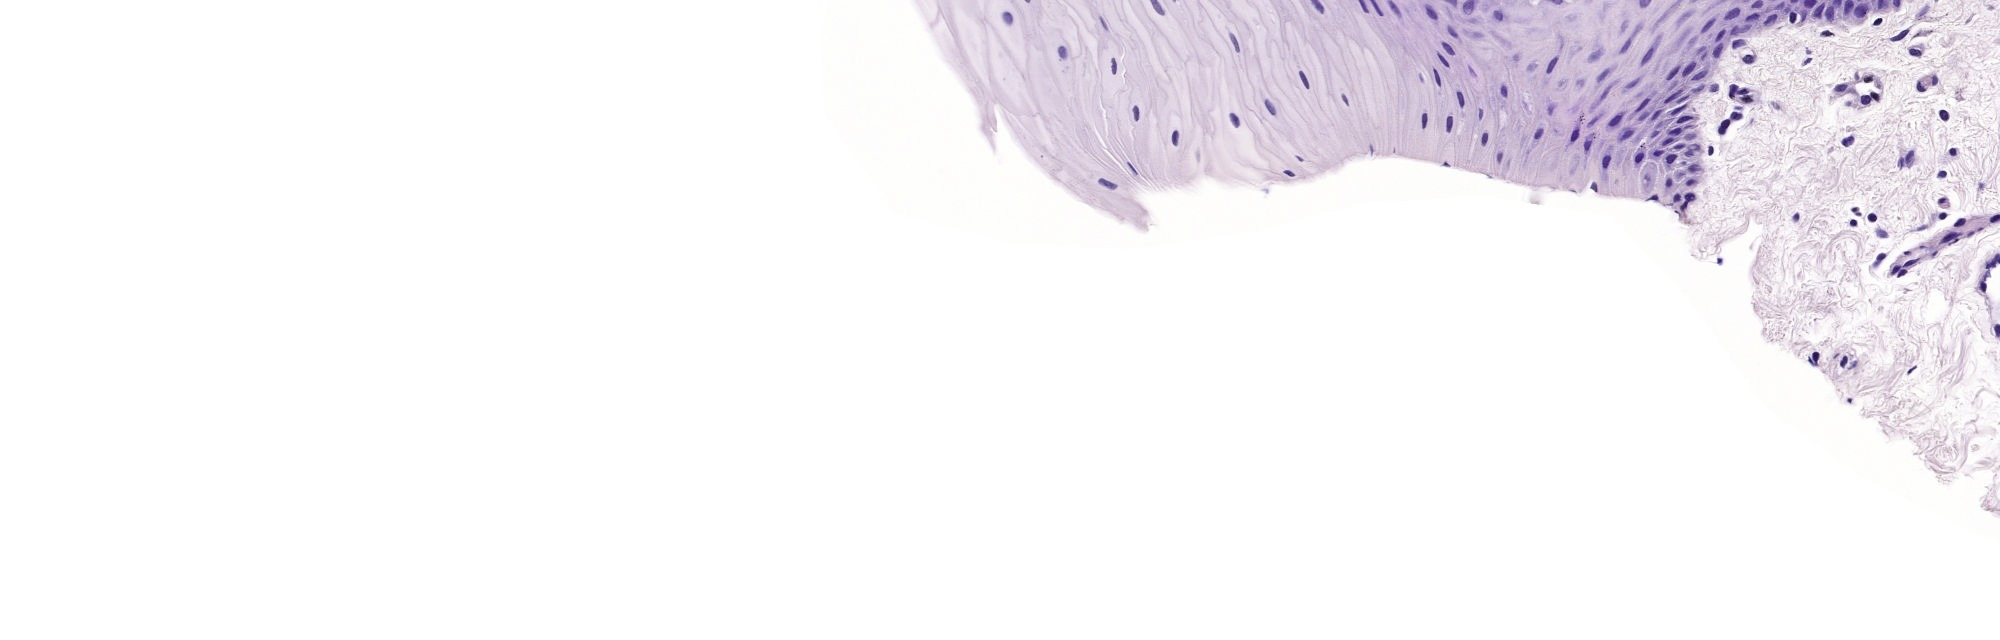epithelial: (1446, 47, 1452, 52), (1769, 17, 1776, 20), (1807, 3, 1814, 6), (1060, 48, 1064, 54), (1687, 68, 1691, 73), (1467, 4, 1469, 10), (1816, 10, 1819, 17), (1392, 4, 1395, 8), (1626, 133, 1630, 136), (1175, 136, 1177, 142), (1719, 33, 1722, 38), (1006, 15, 1009, 19), (1103, 181, 1107, 184), (1269, 105, 1272, 108), (1431, 13, 1435, 15), (1550, 65, 1554, 68), (1614, 119, 1616, 122), (1858, 9, 1862, 11), (1304, 76, 1305, 82), (1233, 41, 1236, 43), (1602, 74, 1605, 76), (1696, 75, 1702, 76), (1732, 11, 1733, 17), (1756, 3, 1759, 5), (1233, 119, 1235, 122), (1443, 57, 1444, 61), (1460, 98, 1462, 102), (1483, 138, 1485, 142), (1499, 156, 1500, 159), (1574, 134, 1575, 138), (1647, 54, 1648, 57), (1657, 112, 1658, 116), (1680, 120, 1684, 121), (1666, 142, 1670, 143), (1707, 25, 1708, 29), (1751, 17, 1755, 18), (1131, 167, 1133, 170), (1157, 6, 1158, 9), (1362, 3, 1364, 5), (1504, 91, 1505, 93), (1639, 156, 1640, 158), (1642, 105, 1643, 107), (1668, 98, 1671, 99), (1675, 111, 1677, 112), (1675, 131, 1677, 133), (1733, 31, 1735, 33), (1631, 84, 1634, 85), (1606, 93, 1607, 96), (1653, 134, 1656, 135), (1288, 173, 1290, 175), (1376, 5, 1378, 6), (1698, 88, 1699, 89), (1497, 15, 1499, 17)
fibroblast and endothelial: (1898, 34, 1902, 40), (1946, 235, 1950, 238), (1736, 42, 1741, 45), (1722, 129, 1724, 134), (1837, 87, 1842, 89), (1901, 272, 1903, 275), (1690, 181, 1693, 184), (1689, 195, 1691, 198), (1724, 121, 1727, 124), (1959, 221, 1964, 222), (1879, 255, 1881, 258), (1815, 354, 1816, 360), (1935, 76, 1936, 82), (1918, 227, 1923, 228), (1746, 57, 1747, 61), (1744, 98, 1747, 99), (1894, 268, 1895, 272), (1677, 196, 1679, 199), (1741, 91, 1744, 92), (1739, 116, 1740, 119), (1913, 51, 1915, 54), (1994, 217, 1996, 218), (1909, 263, 1912, 264), (1911, 368, 1912, 371), (1907, 252, 1908, 255), (1935, 252, 1937, 254), (1668, 182, 1670, 184)
inflammatory: (1844, 140, 1849, 145), (1918, 87, 1922, 89), (1865, 97, 1866, 102), (1714, 85, 1716, 89), (1952, 150, 1953, 153), (1827, 33, 1829, 34)
lymphocyte: (1941, 113, 1944, 117), (1792, 17, 1793, 20), (1878, 20, 1879, 24), (1710, 149, 1712, 152), (1941, 172, 1943, 175), (1853, 222, 1855, 224)
